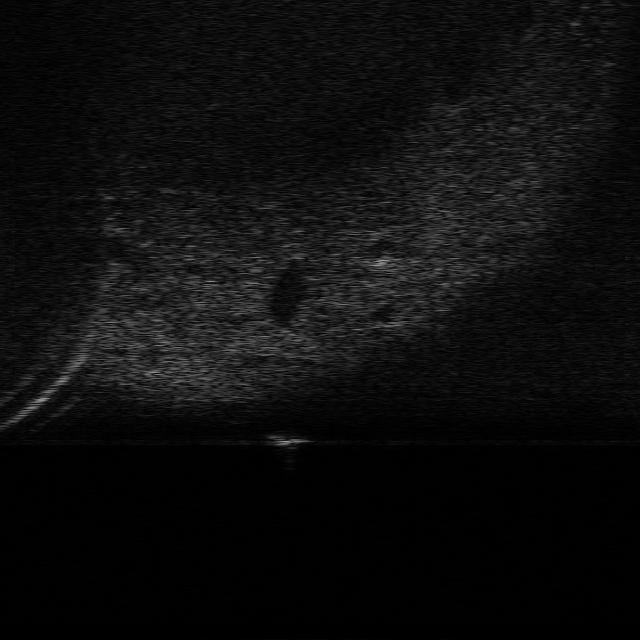cube: (262, 428, 312, 450)
